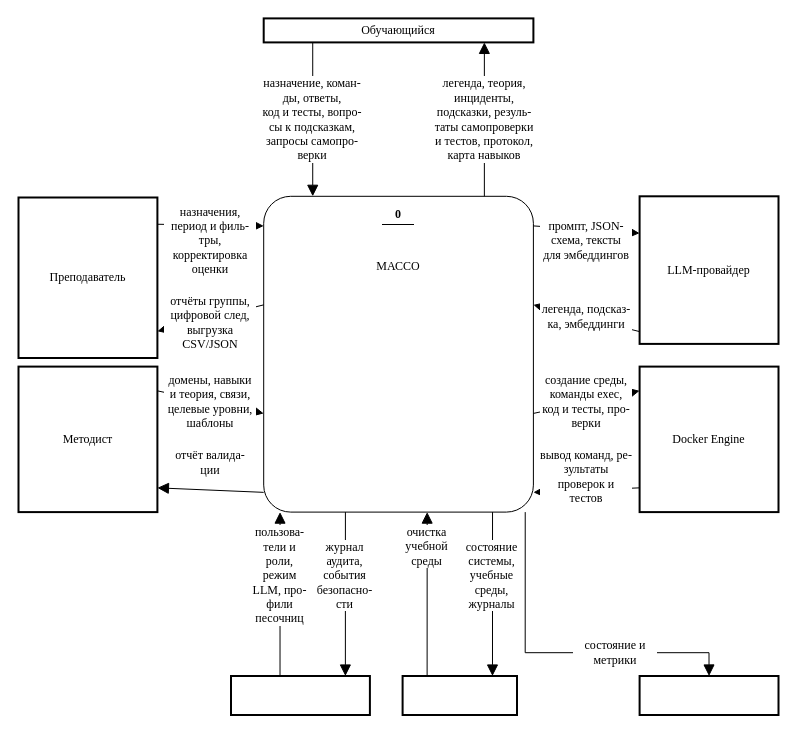
Some shapes in this 796 by 733 pixel diagram are drawn without their labels. Here are the shapes that lost their labels. From the top down, the centre of each, then its label:
At pixel 300 695: "Ад­ми­ни­стра­тор".
At pixel 459 695: "Си­стем­ный ад­ми­ни­стра­тор".
At pixel 708 695: "Си­сте­ма мо­ни­то­рин­га".
